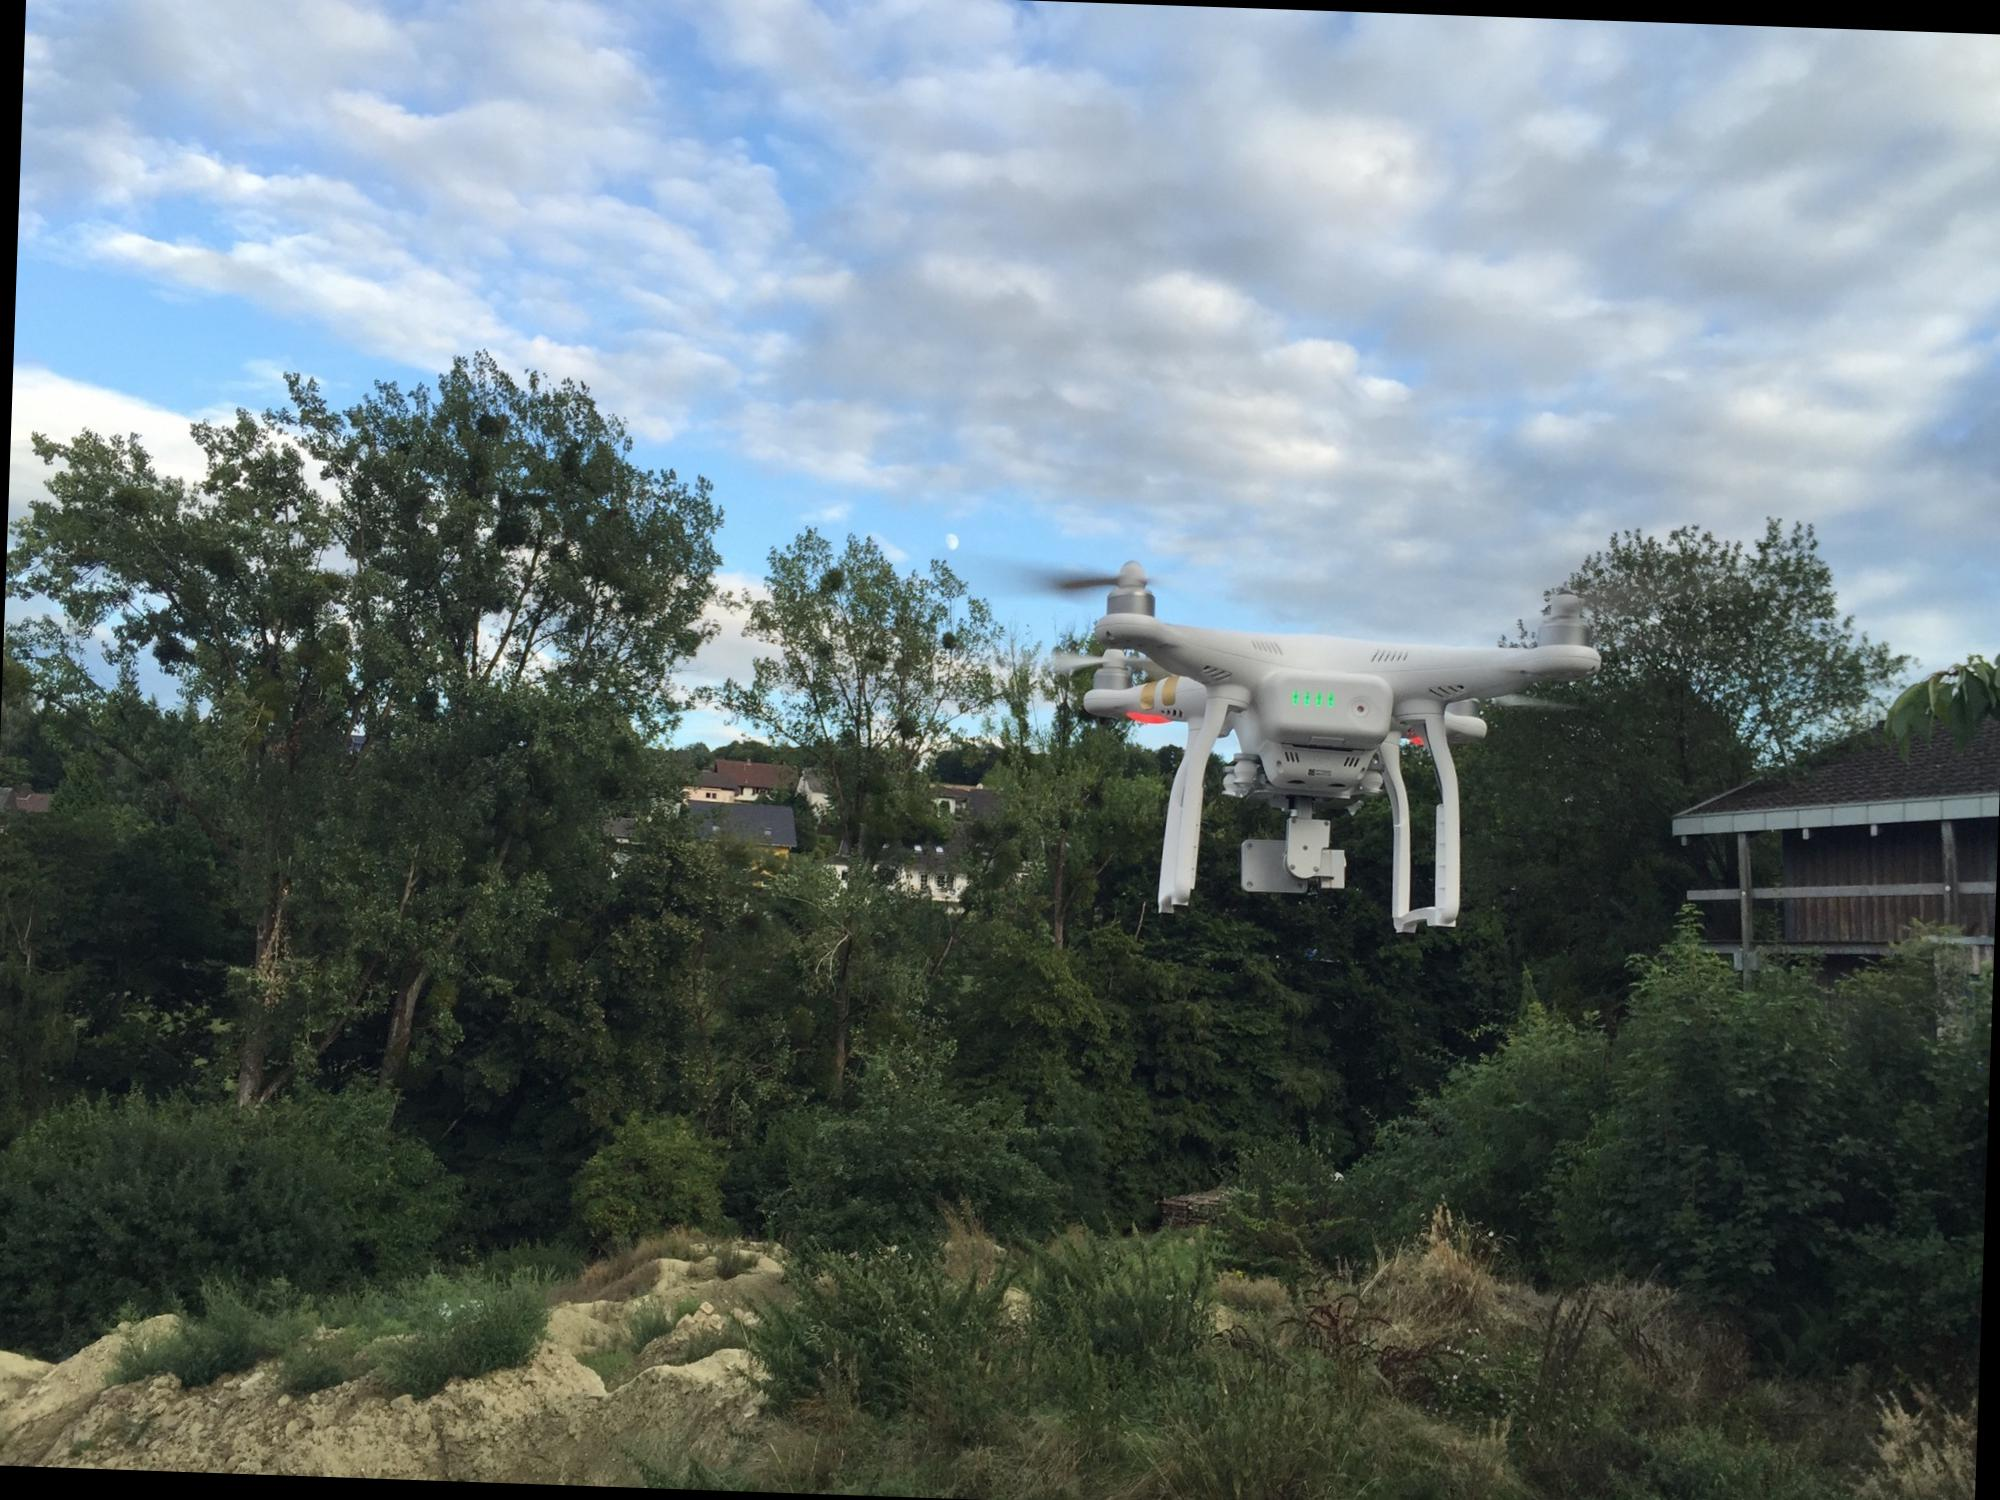drone: (1036, 544, 1608, 939)
